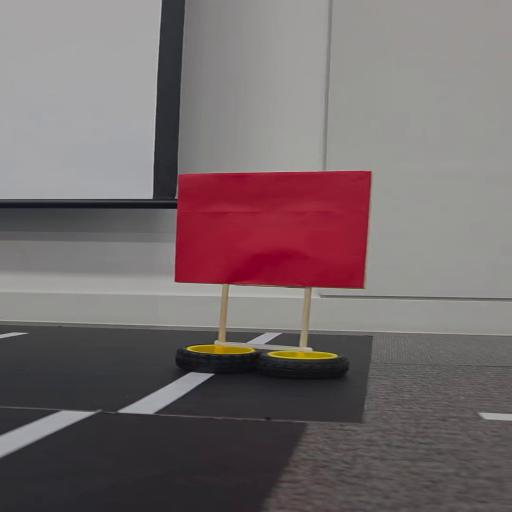Sign_A: (155, 166, 377, 385)
